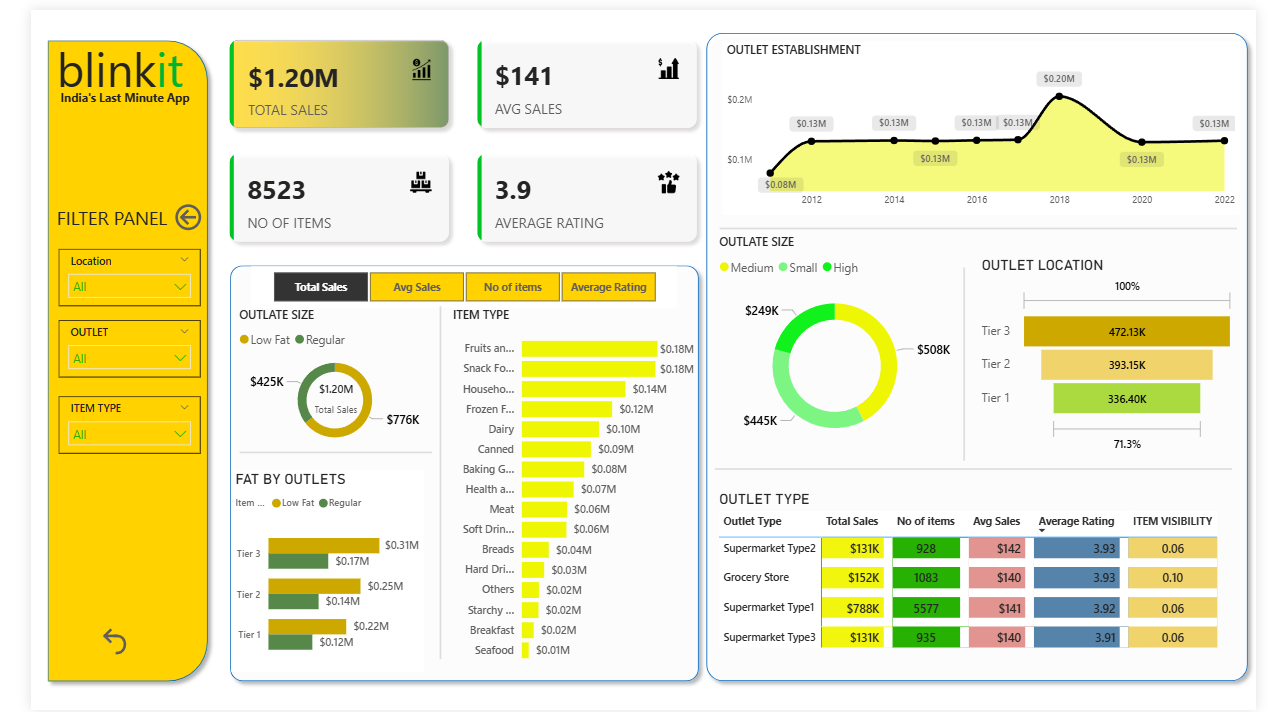

The page's visual inventory and layout, read from the dashboard file:
{"tool":"powerbi","page":{"name":"Page 1","canvas":[1400,800],"ordinal":0},"visuals":[{"type":"shape","box":[9.4,25.5,201.1,750.7],"z":0},{"type":"textbox","box":[24.1,25.5,172.9,89.8],"z":1000},{"type":"textbox","box":[28.2,85.8,163.5,29.5],"z":2000},{"type":"cardVisual","fields":{"Data":["BlinkIT Grocery Data.Total Sales","BlinkIT Grocery Data.Avg Sales"]},"box":[210.5,17.4,569.7,135.4],"z":3000},{"type":"cardVisual","fields":{"Data":["BlinkIT Grocery Data.No of items","BlinkIT Grocery Data.Average Rating"]},"box":[210.5,147.5,569.7,135.4],"z":4000},{"type":"shape","box":[218.5,282.8,553.6,493.3],"z":5000},{"type":"slicer","title":"FAT CONTENT","fields":{"Values":["BlinkIT Grocery Data.Outlet Location Type"]},"box":[30.8,273.5,162.2,65.7],"z":6000},{"type":"slicer","fields":{"Values":["metrics.metrics"]},"box":[252,292.2,486.6,46.9],"z":7000},{"type":"cardVisual","fields":{"Data":["BlinkIT Grocery Data.Total Sales"]},"box":[298.9,406.2,100.5,76.4],"z":8000},{"type":"clusteredBarChart","title":"FAT BY OUTLETS","fields":{"Y":["BlinkIT Grocery Data.Average Rating"],"Category":["BlinkIT Grocery Data.Outlet Location Type"],"Series":["BlinkIT Grocery Data.Item Fat Content"]},"box":[229.2,525.5,219.8,230.6],"z":9000},{"type":"shape","box":[238.6,493.3,219.8,25.5],"z":10000},{"type":"shape","box":[458.4,339.1,18.8,403.5],"z":11000},{"type":"barChart","title":"ITEM TYPE","fields":{"Y":["BlinkIT Grocery Data.Average Rating"],"Category":["BlinkIT Grocery Data.Item Type"]},"box":[477.2,339.1,285.5,416.9],"z":12000},{"type":"shape","box":[762.7,17.4,636.7,758.7],"z":13000},{"type":"lineChart","title":"OUTLET ESTABLISHMENT","fields":{"Category":["BlinkIT Grocery Data.Outlet Establishment Year"],"Y":["BlinkIT Grocery Data.Total Sales"]},"box":[789.5,36.2,591.2,198.4],"z":14000},{"type":"shape","box":[786.9,234.6,591.2,30.8],"z":15000},{"type":"donutChart","title":"OUTLATE SIZE","fields":{"Y":["BlinkIT Grocery Data.Total Sales"],"Category":["BlinkIT Grocery Data.Outlet Size"]},"box":[781.5,256,274.8,254.7],"z":16000},{"type":"funnel","title":"OUTLET LOCATION","fields":{"Category":["BlinkIT Grocery Data.Outlet Location Type"],"Y":["Sum(BlinkIT Grocery Data.Sales)"]},"box":[1081.8,281.5,298.9,229.2],"z":17000},{"type":"shape","box":[947.7,294.9,238.6,221.2],"z":18000},{"type":"shape","box":[781.5,506.7,591.2,34.9],"z":19000},{"type":"pivotTable","title":"OUTLET TYPE","fields":{"Values":["BlinkIT Grocery Data.Total Sales","BlinkIT Grocery Data.No of items","BlinkIT Grocery Data.Avg Sales","BlinkIT Grocery Data.Average Rating","Avg(BlinkIT Grocery Data.Item Visibility)"],"Rows":["BlinkIT Grocery Data.Outlet Type"]},"box":[781.5,548.3,600.5,211.8],"z":20000},{"type":"slicer","title":"FAT CONTENT","fields":{"Values":["BlinkIT Grocery Data.Outlet Size"]},"box":[30.8,353.9,162.2,65.7],"z":21000},{"type":"donutChart","title":"OUTLATE SIZE","fields":{"Category":["BlinkIT Grocery Data.Item Fat Content"],"Y":["BlinkIT Grocery Data.Total Sales"]},"box":[233.2,339.1,229.2,167.6],"z":21001},{"type":"slicer","title":"FAT CONTENT","fields":{"Values":["BlinkIT Grocery Data.Item Type"]},"box":[30.8,441,162.2,65.7],"z":21002},{"type":"textbox","box":[30.8,215.8,152.8,49.6],"z":21003}]}

Visuals, with their boxes in screenshot pixels (x1, y1, x2, y2), scaled from the page's 1400x800 canvas onto the 1268x712 screenshot:
shape: <region>9, 23, 191, 691</region>
textbox: <region>22, 23, 178, 103</region>
textbox: <region>26, 76, 174, 103</region>
cardVisual - BlinkIT Grocery Data.Total Sales x BlinkIT Grocery Data.Avg Sales: <region>191, 15, 707, 136</region>
cardVisual - BlinkIT Grocery Data.No of items x BlinkIT Grocery Data.Average Rating: <region>191, 131, 707, 252</region>
shape: <region>198, 252, 699, 691</region>
"FAT CONTENT" slicer: <region>28, 243, 175, 302</region>
slicer - metrics.metrics: <region>228, 260, 669, 302</region>
cardVisual - BlinkIT Grocery Data.Total Sales: <region>271, 362, 362, 430</region>
"FAT BY OUTLETS" clusteredBarChart: <region>208, 468, 407, 673</region>
shape: <region>216, 439, 415, 462</region>
shape: <region>415, 302, 432, 661</region>
"ITEM TYPE" barChart: <region>432, 302, 691, 673</region>
shape: <region>691, 15, 1267, 691</region>
"OUTLET ESTABLISHMENT" lineChart: <region>715, 32, 1251, 209</region>
shape: <region>713, 209, 1248, 236</region>
"OUTLATE SIZE" donutChart: <region>708, 228, 957, 455</region>
"OUTLET LOCATION" funnel: <region>980, 251, 1251, 455</region>
shape: <region>858, 262, 1074, 459</region>
shape: <region>708, 451, 1243, 482</region>
"OUTLET TYPE" pivotTable: <region>708, 488, 1252, 676</region>
"FAT CONTENT" slicer: <region>28, 315, 175, 373</region>
"OUTLATE SIZE" donutChart: <region>211, 302, 419, 451</region>
"FAT CONTENT" slicer: <region>28, 392, 175, 451</region>
textbox: <region>28, 192, 166, 236</region>
